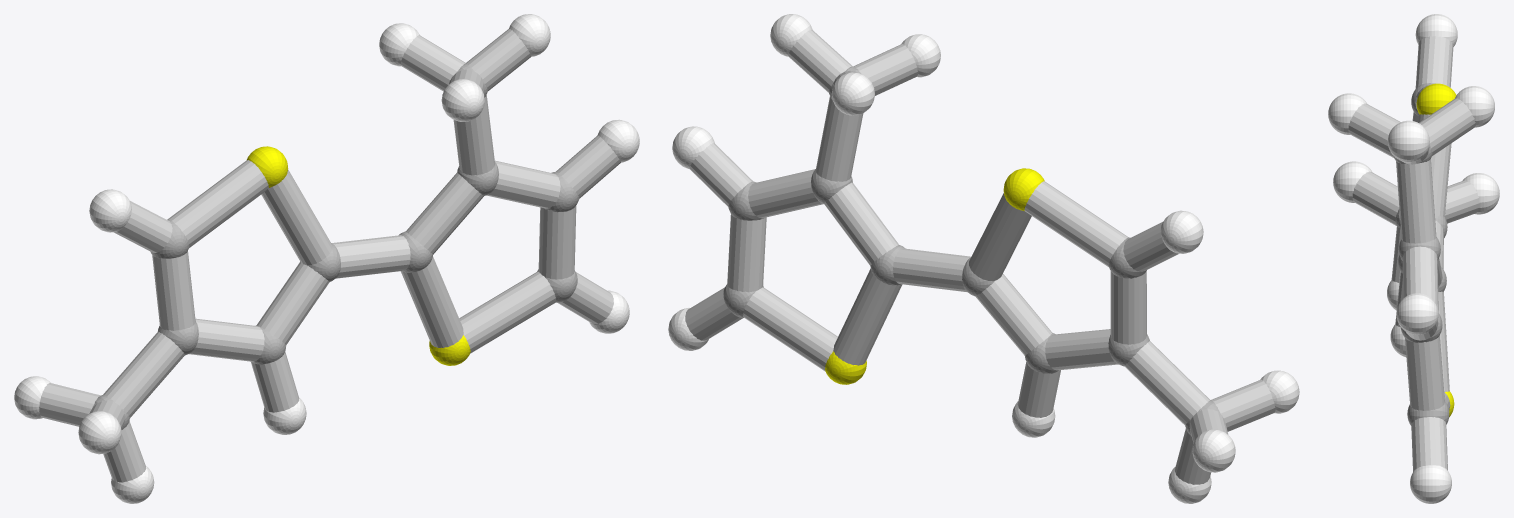
The model's file is color.glb.
3 views of the same model, side by side, from view 1: azimuth 30°, elevation 25°; view 2: azimuth 150°, elevation 25°; view 3: azimuth 270°, elevation 25° (orthographic). The views are drawn at different scales.
Visible parts, largest first — view 1: grp7965, grp3621, grp1, grp7241; view 2: grp7965, grp3621, grp1, grp7241; view 3: grp7965, grp3621, grp1, grp7241.
Boxes of the visible parts, x1,y1,x2,y2 form: grp7965: (39,28,620,482); grp3621: (14,14,639,503); grp1: (92,63,579,429); grp7241: (247,146,470,365); grp7965: (685,29,1275,484); grp3621: (668,14,1299,503); grp1: (723,66,1220,435); grp7241: (825,168,1044,384); grp7965: (1348,36,1479,471); grp3621: (1328,14,1499,503); grp1: (1393,83,1449,425); grp7241: (1416,83,1456,416).
Bounding box in the file's own units: 9.42 × 5.95 × 2.45.
